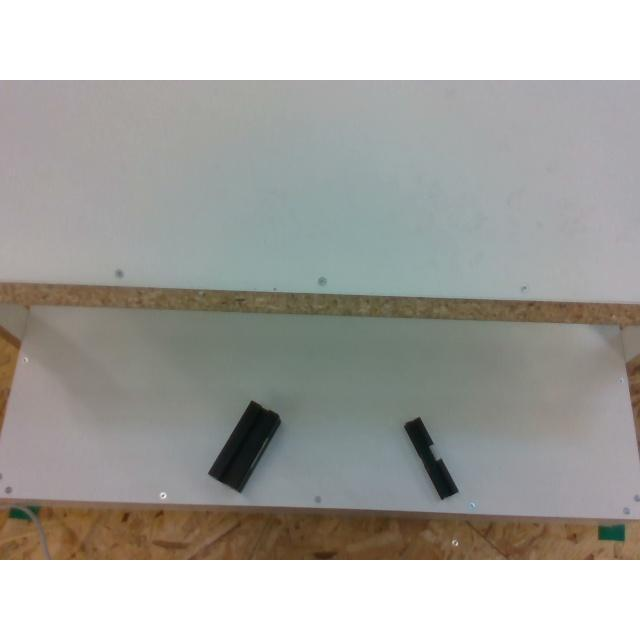F20_20_B: (404, 417, 458, 499)
S40_40_B: (208, 401, 280, 491)
